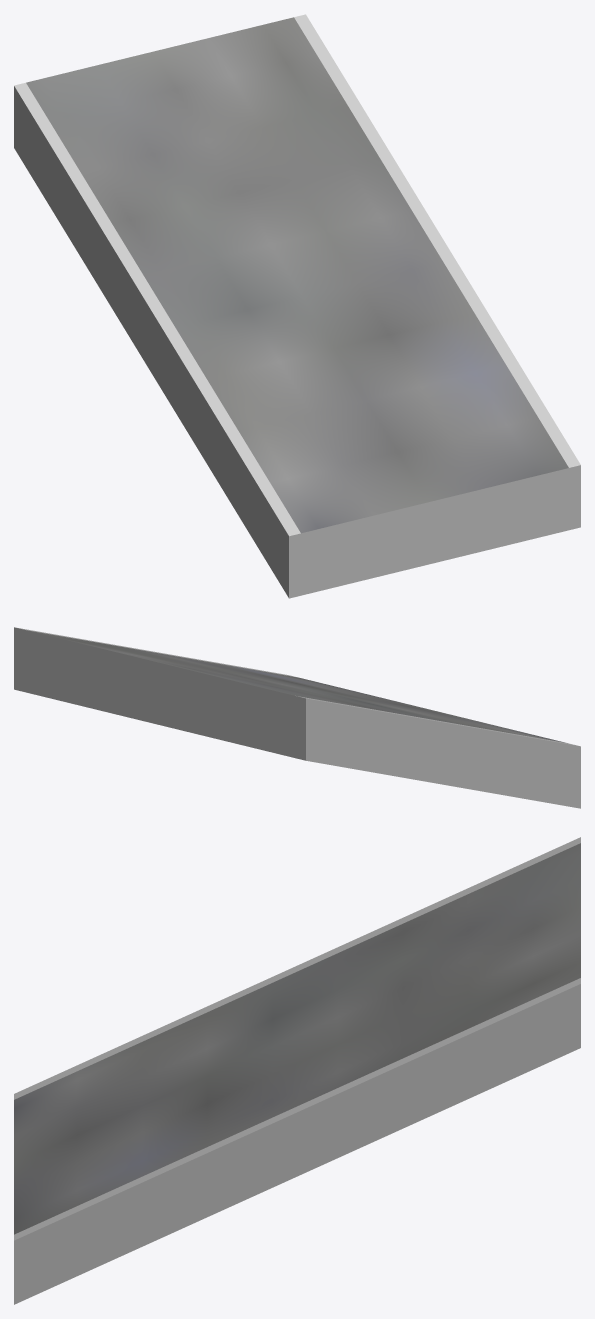
File: JpHouse_23a_site4b.fbx
The picture shows the model from 3 angles, top to bottom: view 1: azimuth 30°, elevation 25°; view 2: azimuth 150°, elevation 25°; view 3: azimuth 270°, elevation 25°; orthographic projection. The views are drawn at different scales.
Visible parts, largest first — view 1: JpHouse_23a_site4b; view 2: JpHouse_23a_site4b; view 3: JpHouse_23a_site4b.
Boxes of the visible parts, left/top/right/bottom form: JpHouse_23a_site4b: left=14, top=14, right=580, bottom=598; JpHouse_23a_site4b: left=14, top=627, right=580, bottom=808; JpHouse_23a_site4b: left=14, top=837, right=580, bottom=1304.
Size of the model in its own units: 2.45 by 2.5 by 4.
